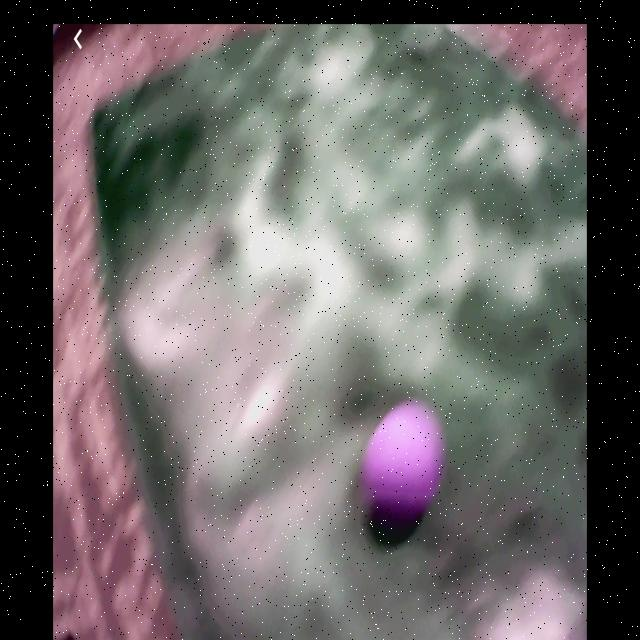ball: (365, 407, 438, 512)
